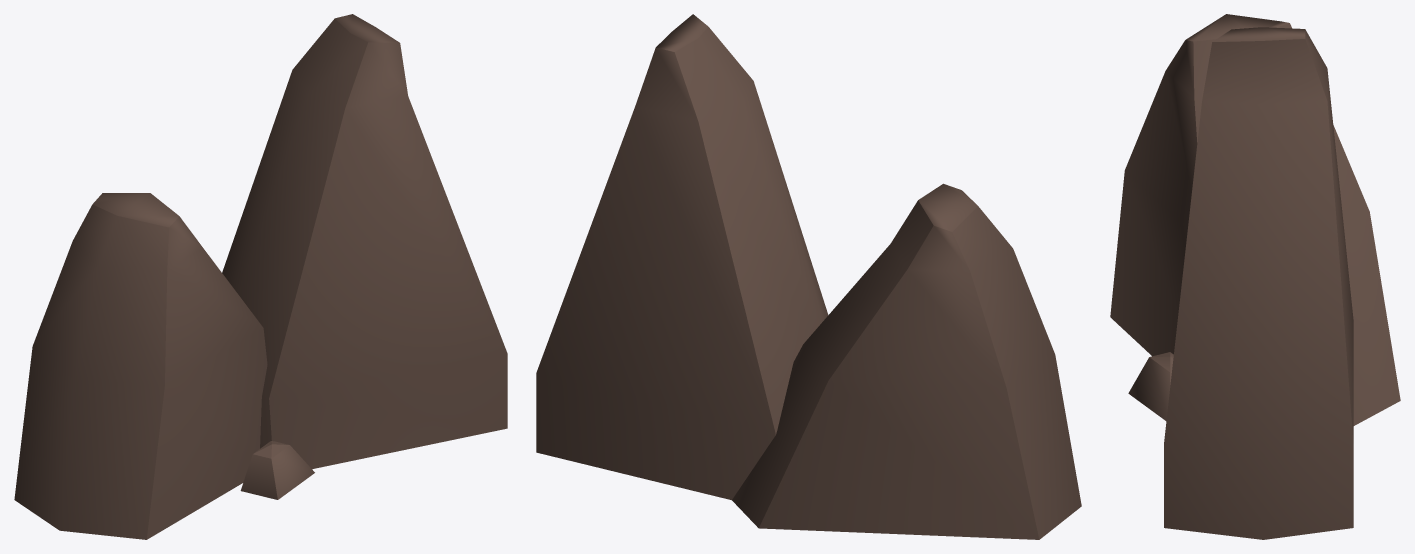
The model's file is SM_Stone_03.fbx.
3 renders of one model, left to right at view 1: azimuth 30°, elevation 25°; view 2: azimuth 150°, elevation 25°; view 3: azimuth 270°, elevation 25°, orthographic. The views are drawn at different scales.
Parts seen in each view (by area): view 1: SM_Stone_03; view 2: SM_Stone_03; view 3: SM_Stone_03.
Boxes of the visible parts, x1,y1,x2,y2 form: SM_Stone_03: (14, 14, 507, 539); SM_Stone_03: (536, 14, 1081, 539); SM_Stone_03: (1110, 14, 1400, 539).
Bounding box in the file's own units: 1.51 × 1.21 × 0.7279.
